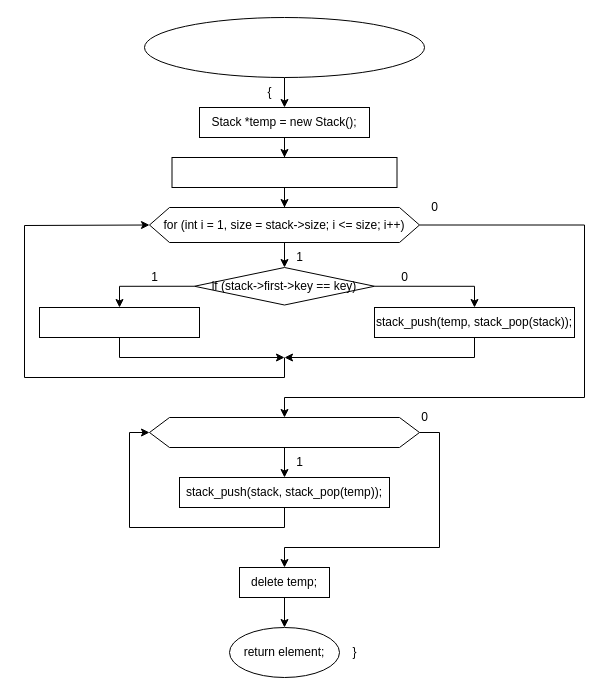
The diagram is 610 pixels wide and 695 high, and some of its shapes have lost their labels. The shapes that lost their labels are listed below. From the top down, each one's centre as x and y in pixels, then its label:
At [284,47]: "StackElement *stack_queue_remove(Stack *stack, const string key)".
At [284,172]: "StackElement *element = nullptr, *v;".
At [119,322]: "element = stack_pop(stack);".
At [284,432]: "for (int i = 1, size = temp->size; i <= size; i++)".
